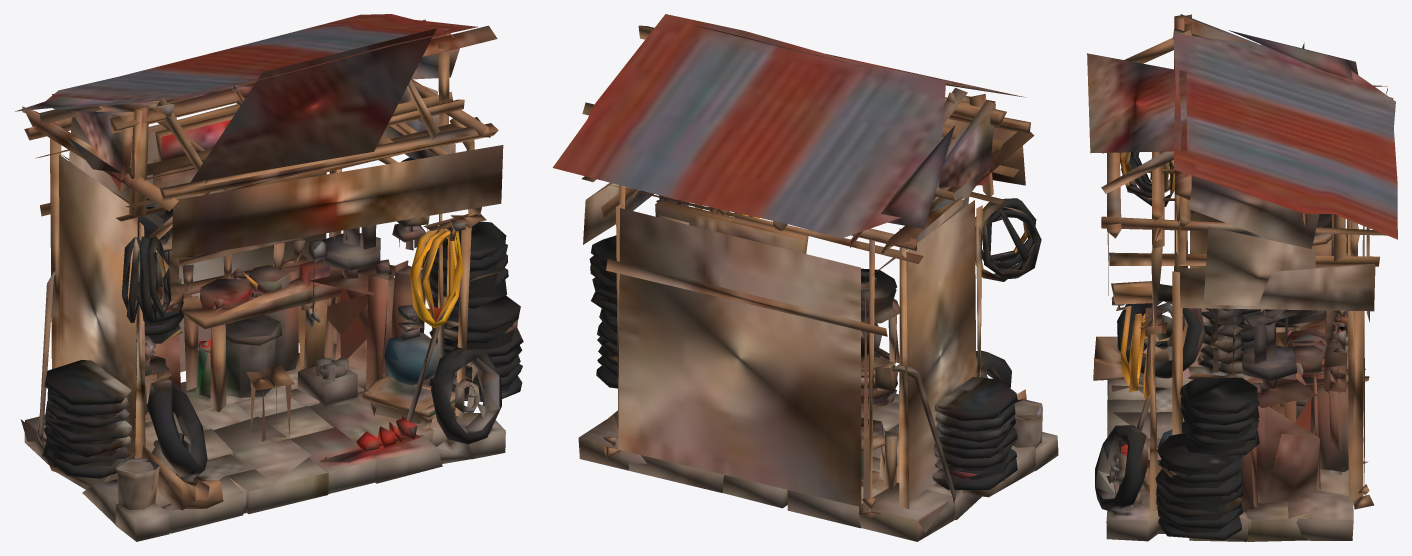
The model's file is vulcanizing.glb.
The picture shows the model from 3 angles, left to right: view 1: azimuth 30°, elevation 25°; view 2: azimuth 150°, elevation 25°; view 3: azimuth 270°, elevation 25°; orthographic projection. The views are drawn at different scales.
Parts seen in each view (by area): view 1: Mesh0; view 2: Mesh0; view 3: Mesh0.
Part boxes in pixels (box(x1,y1,x2,y2)): Mesh0: box(15, 14, 523, 541); Mesh0: box(552, 14, 1058, 541); Mesh0: box(1087, 14, 1397, 541).
Size of the model in its own units: 1 by 0.8738 by 0.6528.
1 material, 1 textured.
